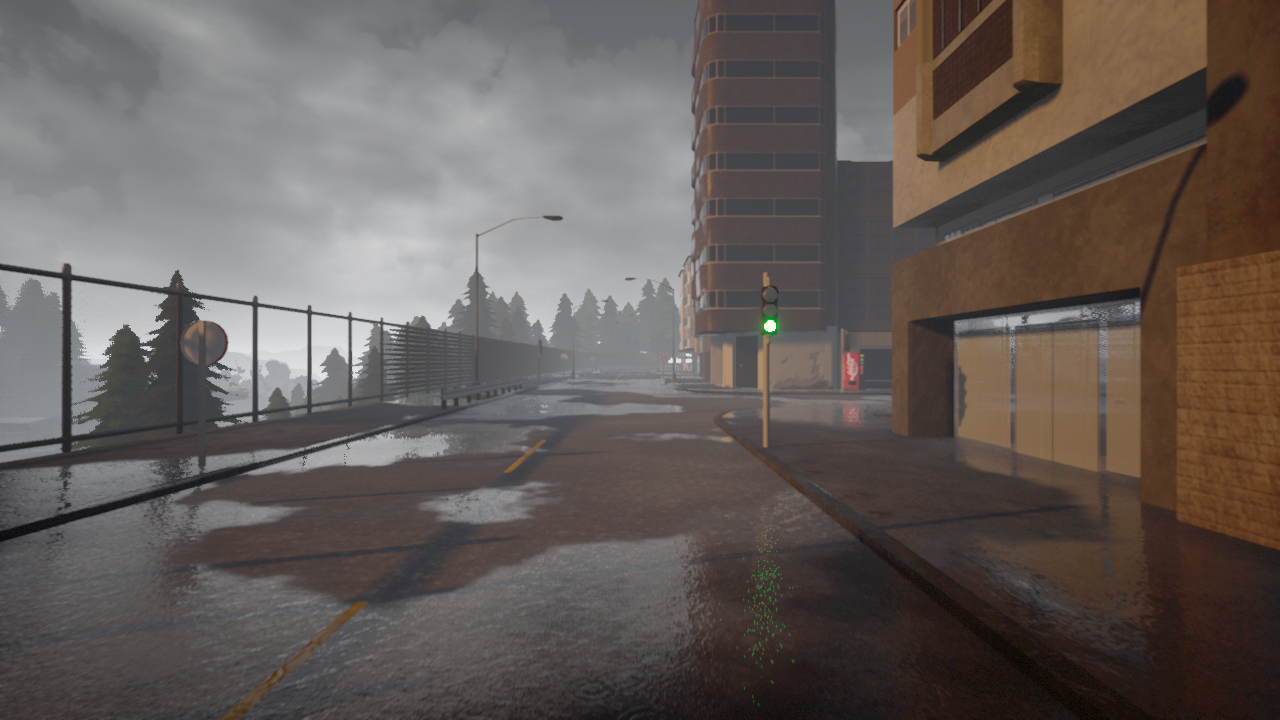green: (761, 285, 780, 335)
